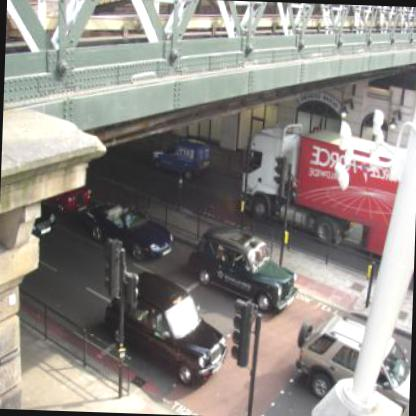car: (102, 266, 233, 386), (292, 312, 412, 406), (184, 232, 302, 321), (84, 194, 180, 262), (150, 136, 211, 180), (46, 181, 92, 214), (30, 205, 60, 237)
